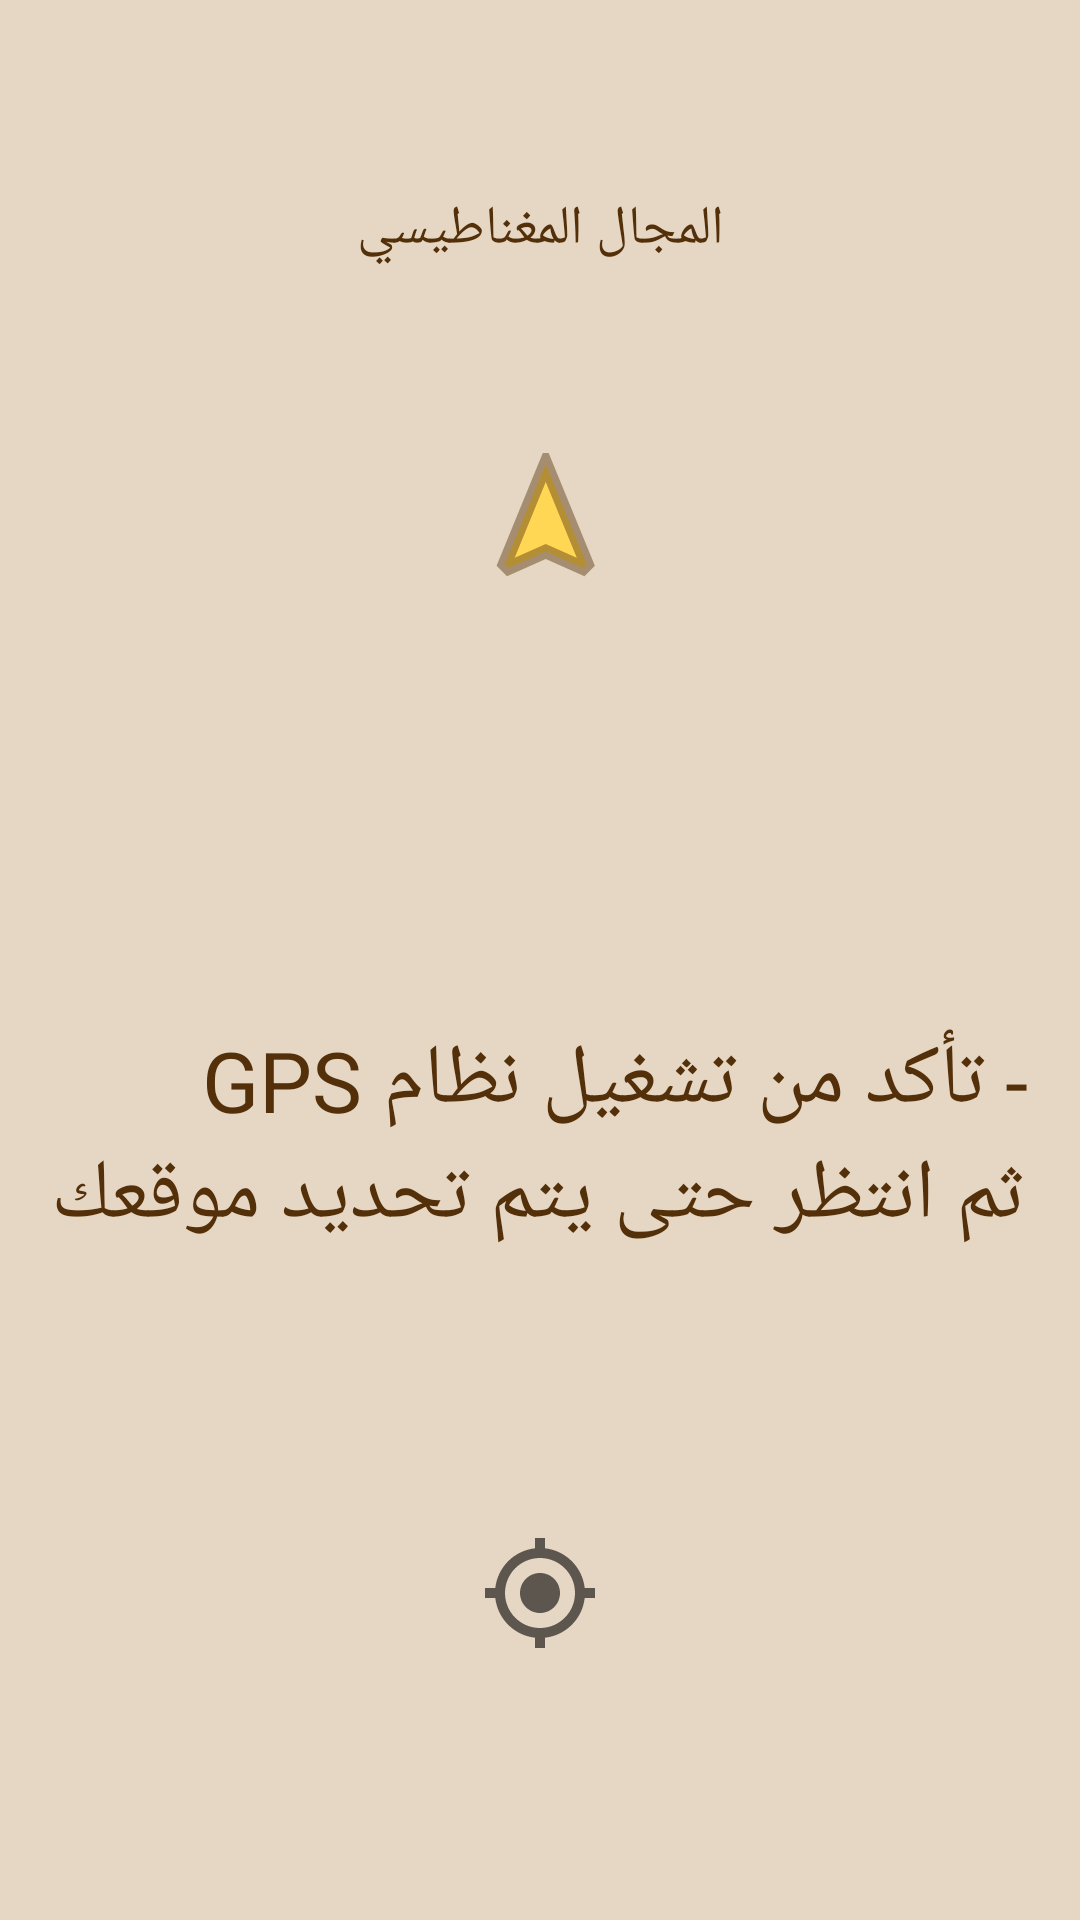

Where to tap for icons on this 1080x1920 app screen, as (x=x, y=y):
gps fixed: (x=540, y=1593)
